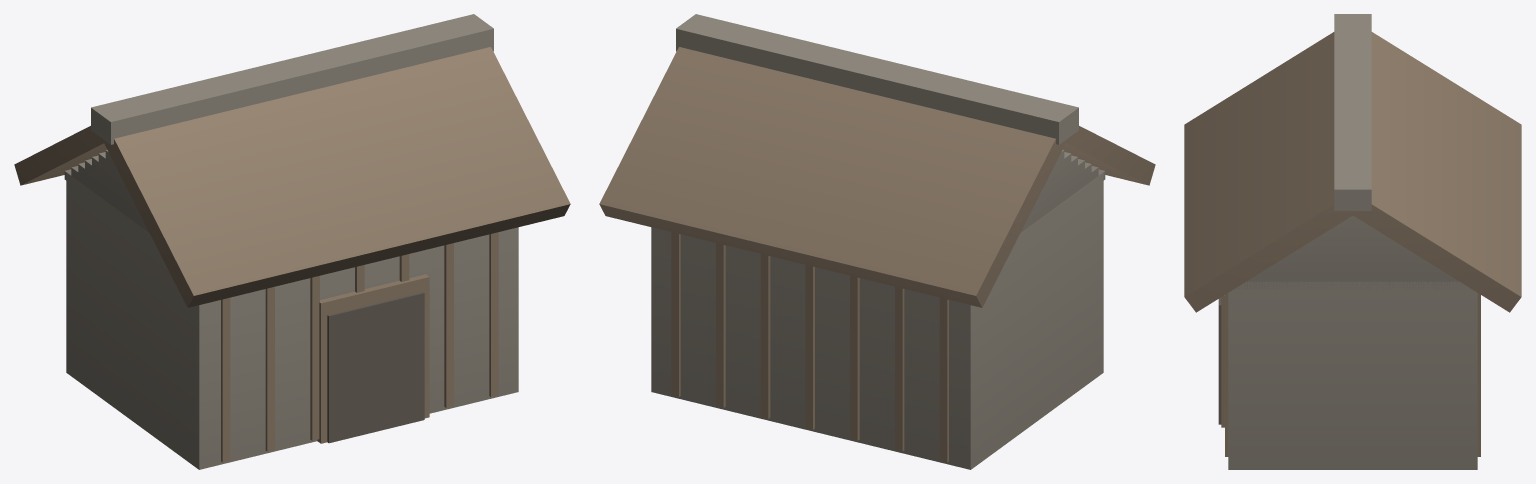
The model's file is barn.glb.
3 renders of one model, left to right at view 1: azimuth 30°, elevation 25°; view 2: azimuth 150°, elevation 25°; view 3: azimuth 270°, elevation 25°, orthographic. The views are drawn at different scales.
Visible parts, largest first — view 1: barn; view 2: barn; view 3: barn.
Boxes of the visible parts, x1=… form: barn: x1=14, y1=14, x2=570, y2=469; barn: x1=599, y1=14, x2=1155, y2=469; barn: x1=1184, y1=14, x2=1521, y2=469.
Size of the model in its own units: 6 by 4.7 by 4.87.
